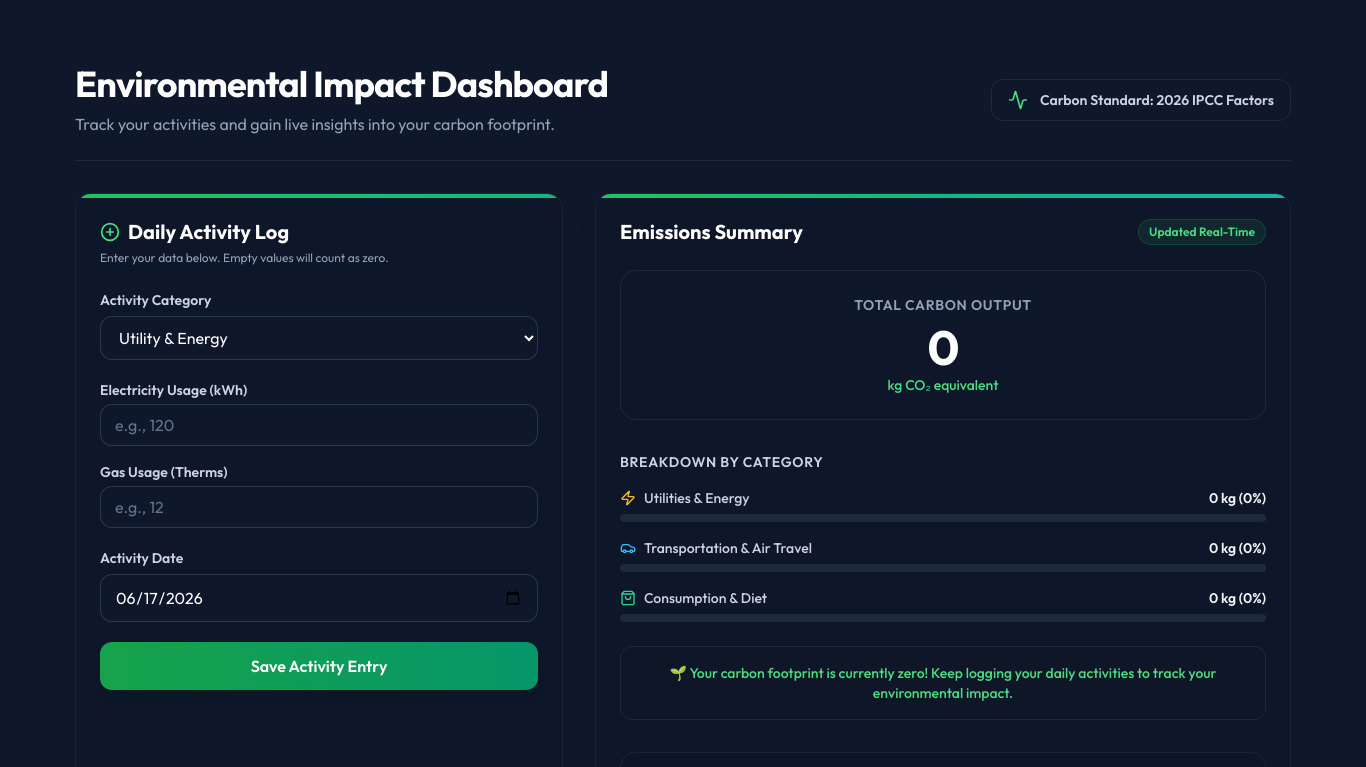
Test: Dashboard Component Accessibility & Functionality Tests › Mock successful submission and check update to metrics and aria-live region announcement
The image size is (1366, 767).
In the number field labelled "Electricity Usage (kWh)": (319, 425) [100,404,538,446], type "200"
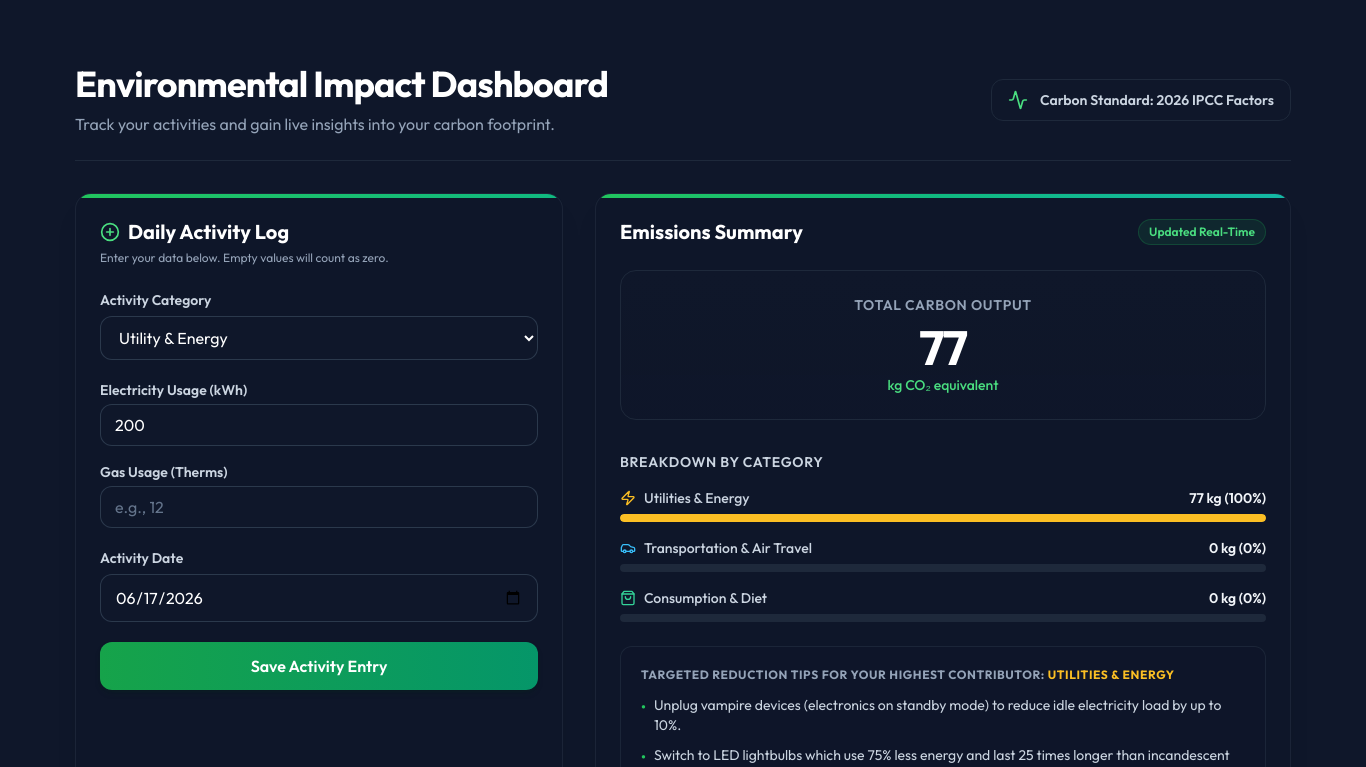
Click the button "Save Activity Entry": (319, 666) [100,642,538,690]
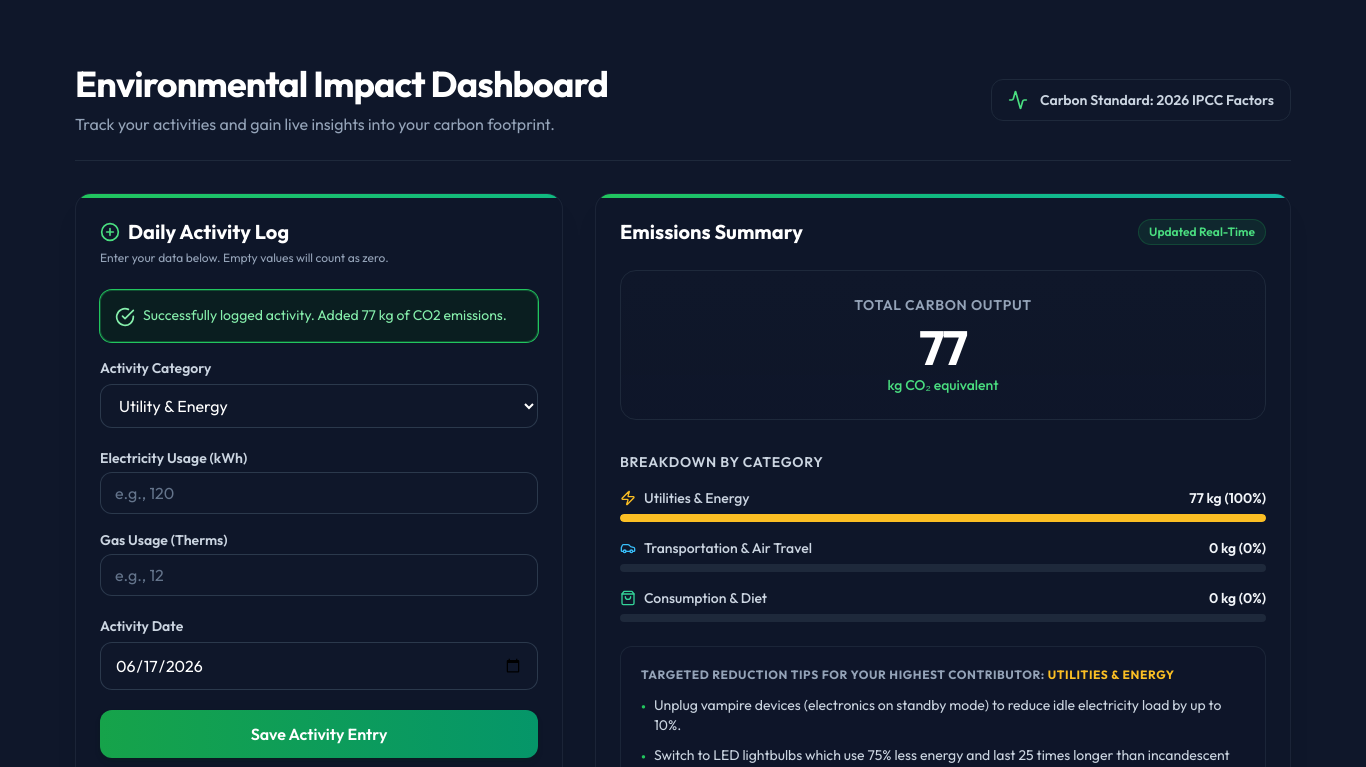
Now the text with test id "total-emissions" reads "77", box [919,317,967,377]
Now the text "Successfully logged activity. Added 77 kg of CO2 emissions." is shown, box [143,305,507,325]
